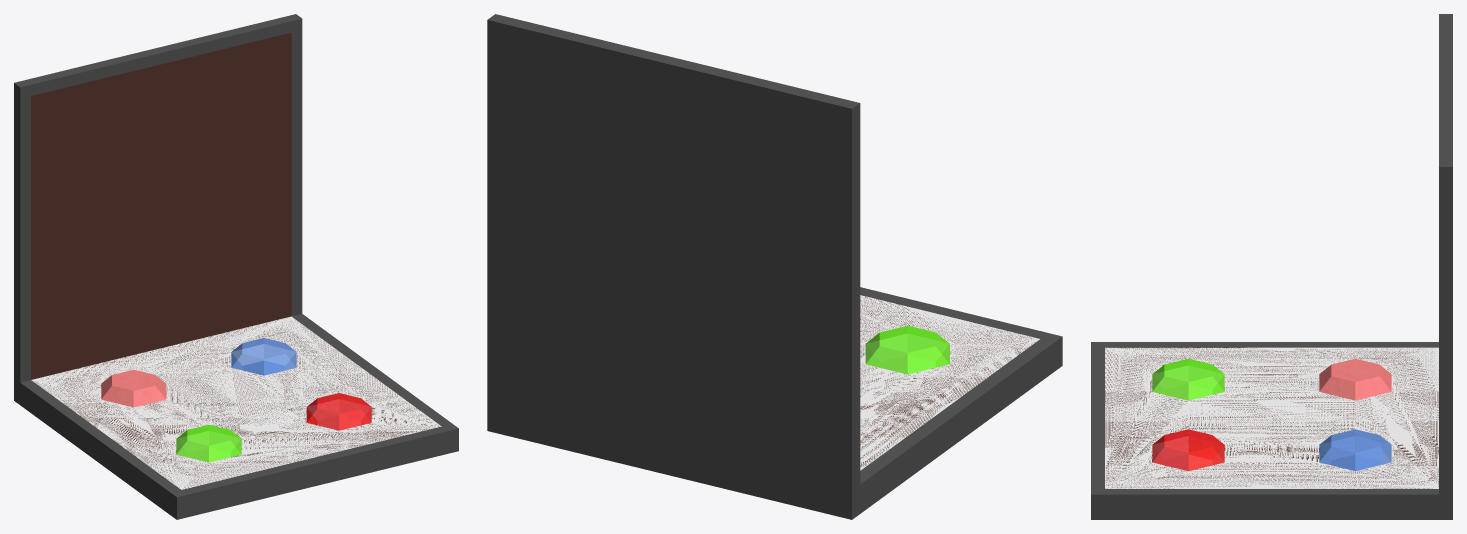
The model's file is goldenweight_yotagem_collection.dae.
3 renders of one model, left to right at view 1: azimuth 30°, elevation 25°; view 2: azimuth 150°, elevation 25°; view 3: azimuth 270°, elevation 25°, orthographic. The views are drawn at different scales.
Visible parts, largest first — view 1: gem_box (×9); view 2: gem_box (×4); view 3: gem_box (×8).
Boxes of the visible parts, left/top/right/bottom form: gem_box (×9): left=14, top=14, right=458, bottom=519; gem_box (×4): left=487, top=14, right=1062, bottom=519; gem_box (×8): left=1091, top=14, right=1452, bottom=519.
Size of the model in its own units: 26 by 26 by 28.
Materials: 7 (3 with a texture image).
